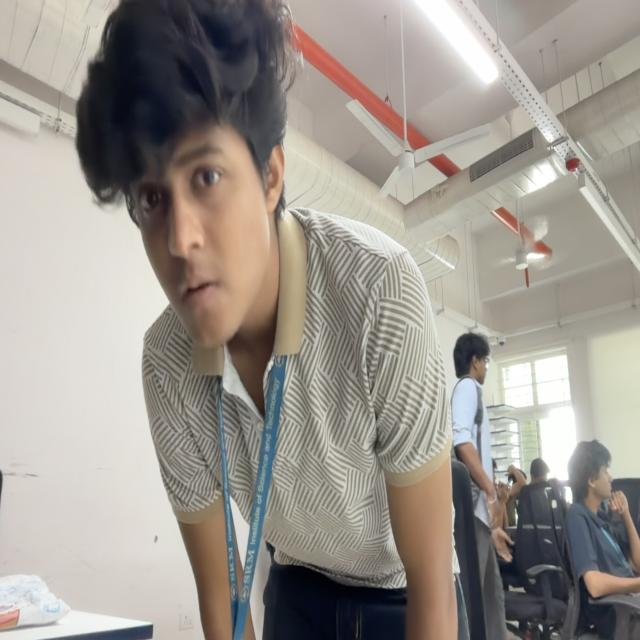kshitij: (74, 0, 287, 349)
